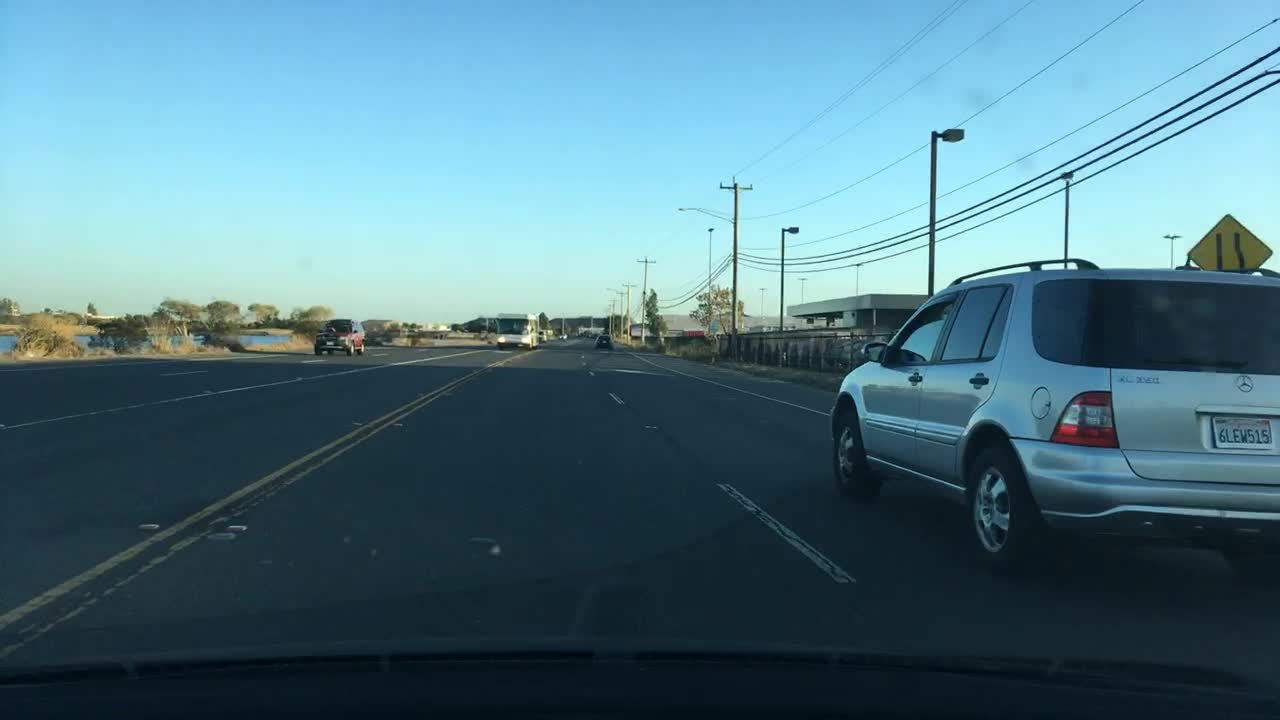bus: (496, 314, 541, 348)
car: (831, 258, 1278, 575), (311, 316, 366, 355), (595, 335, 613, 349)
traffic sign: (1186, 213, 1270, 274)
